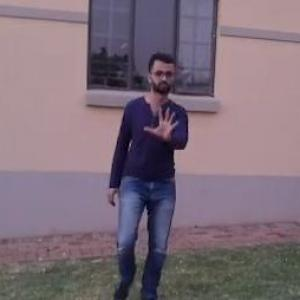follow_hand: (142, 99, 182, 144)
